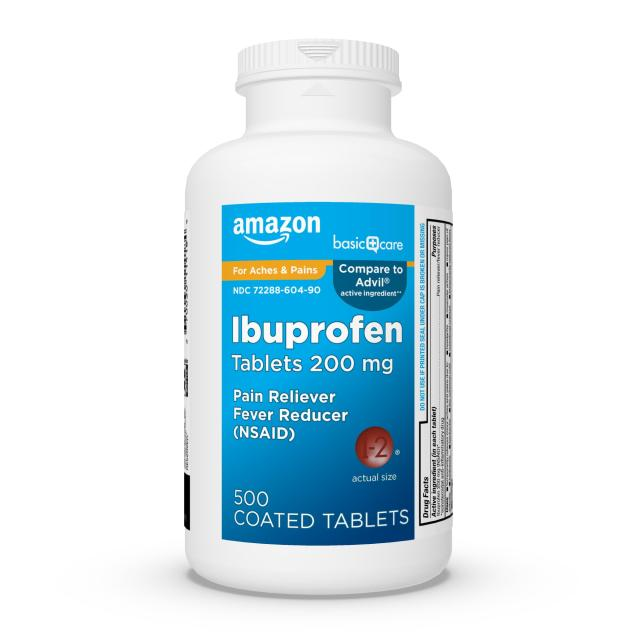Medicine-name: (235, 310, 401, 389)
